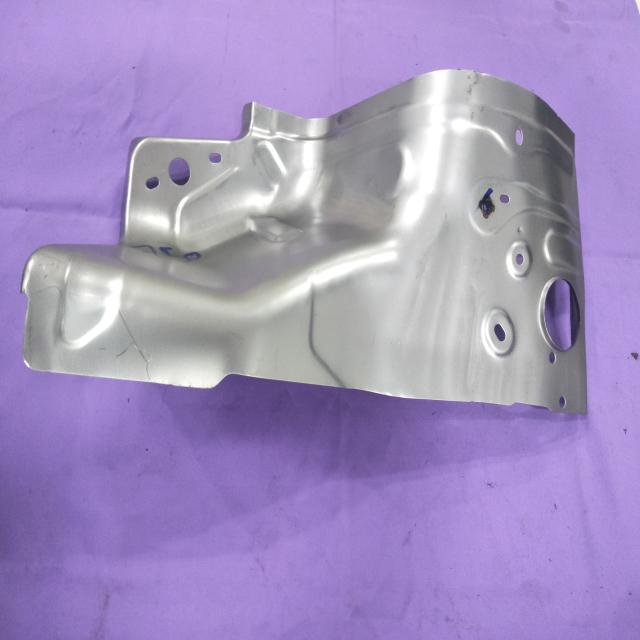Healthy: (21, 66, 590, 418)
